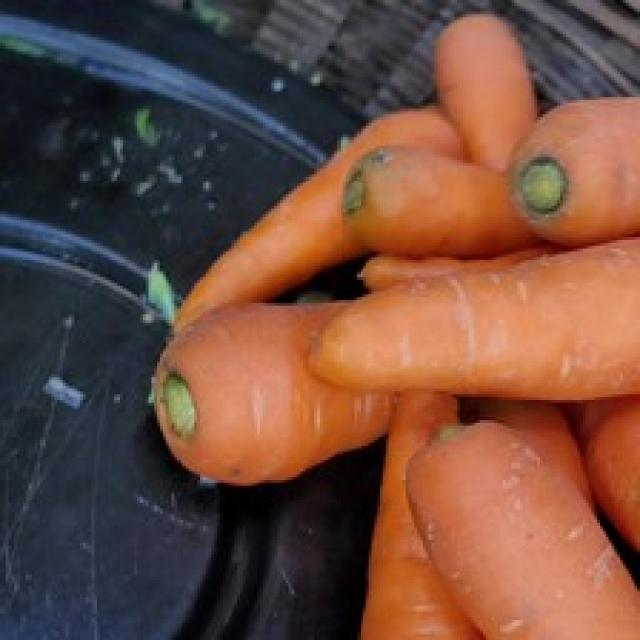Fresh_Carrot: (334, 247, 640, 395), (426, 442, 640, 640), (432, 7, 534, 149)
